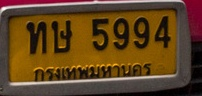txt18: (24, 20, 47, 55)
txt34: (50, 18, 73, 53)
